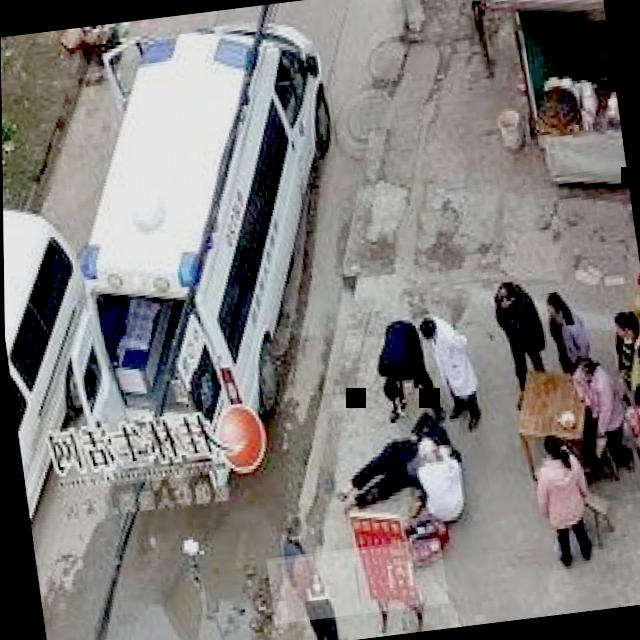Fall-Detected: (329, 394, 481, 524)
